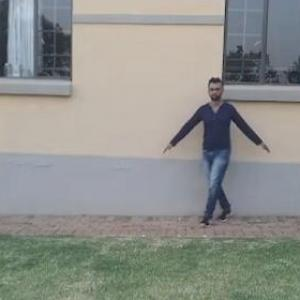land: (168, 79, 270, 235)
